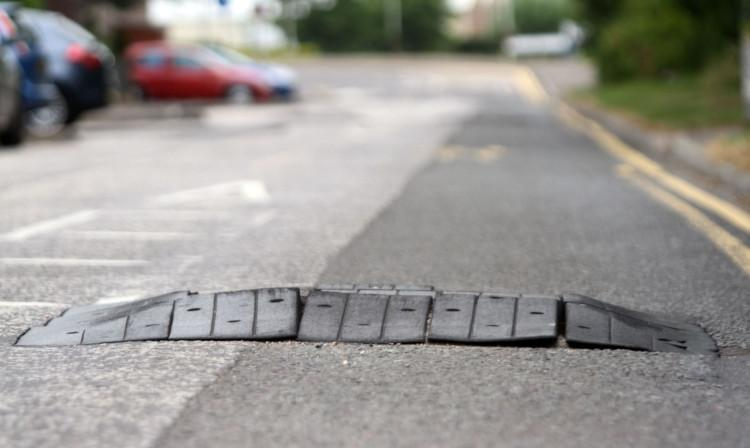Bump: (74, 292, 716, 347)
